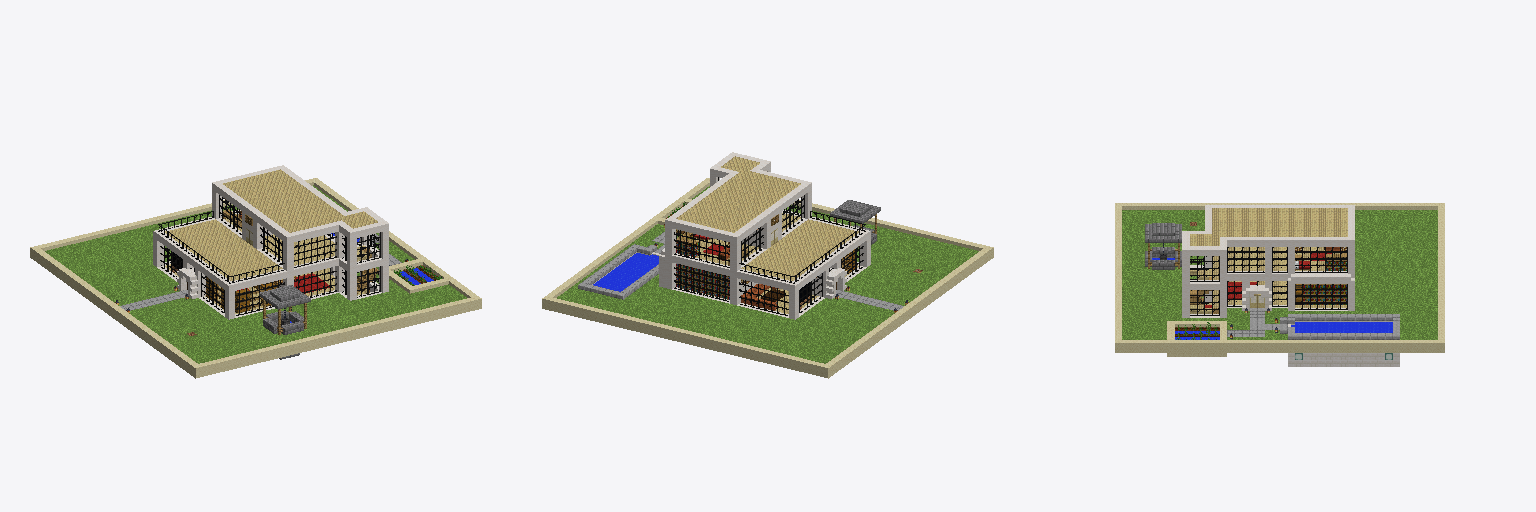
The picture shows the model from 3 angles: view 1: azimuth 30°, elevation 25°; view 2: azimuth 150°, elevation 25°; view 3: azimuth 270°, elevation 25°; orthographic projection.
Parts seen in each view (by area): view 1: world__-10_-64_-14_to_33_319_29; view 2: world__-10_-64_-14_to_33_319_29; view 3: world__-10_-64_-14_to_33_319_29.
Boxes of the visible parts, x1,y1,x2,y2 form: world__-10_-64_-14_to_33_319_29: [30, 165, 481, 378]; world__-10_-64_-14_to_33_319_29: [542, 152, 993, 378]; world__-10_-64_-14_to_33_319_29: [1115, 203, 1444, 366].
Size of the model in its own units: 44 by 14 by 44.
47 materials, 2 textured.